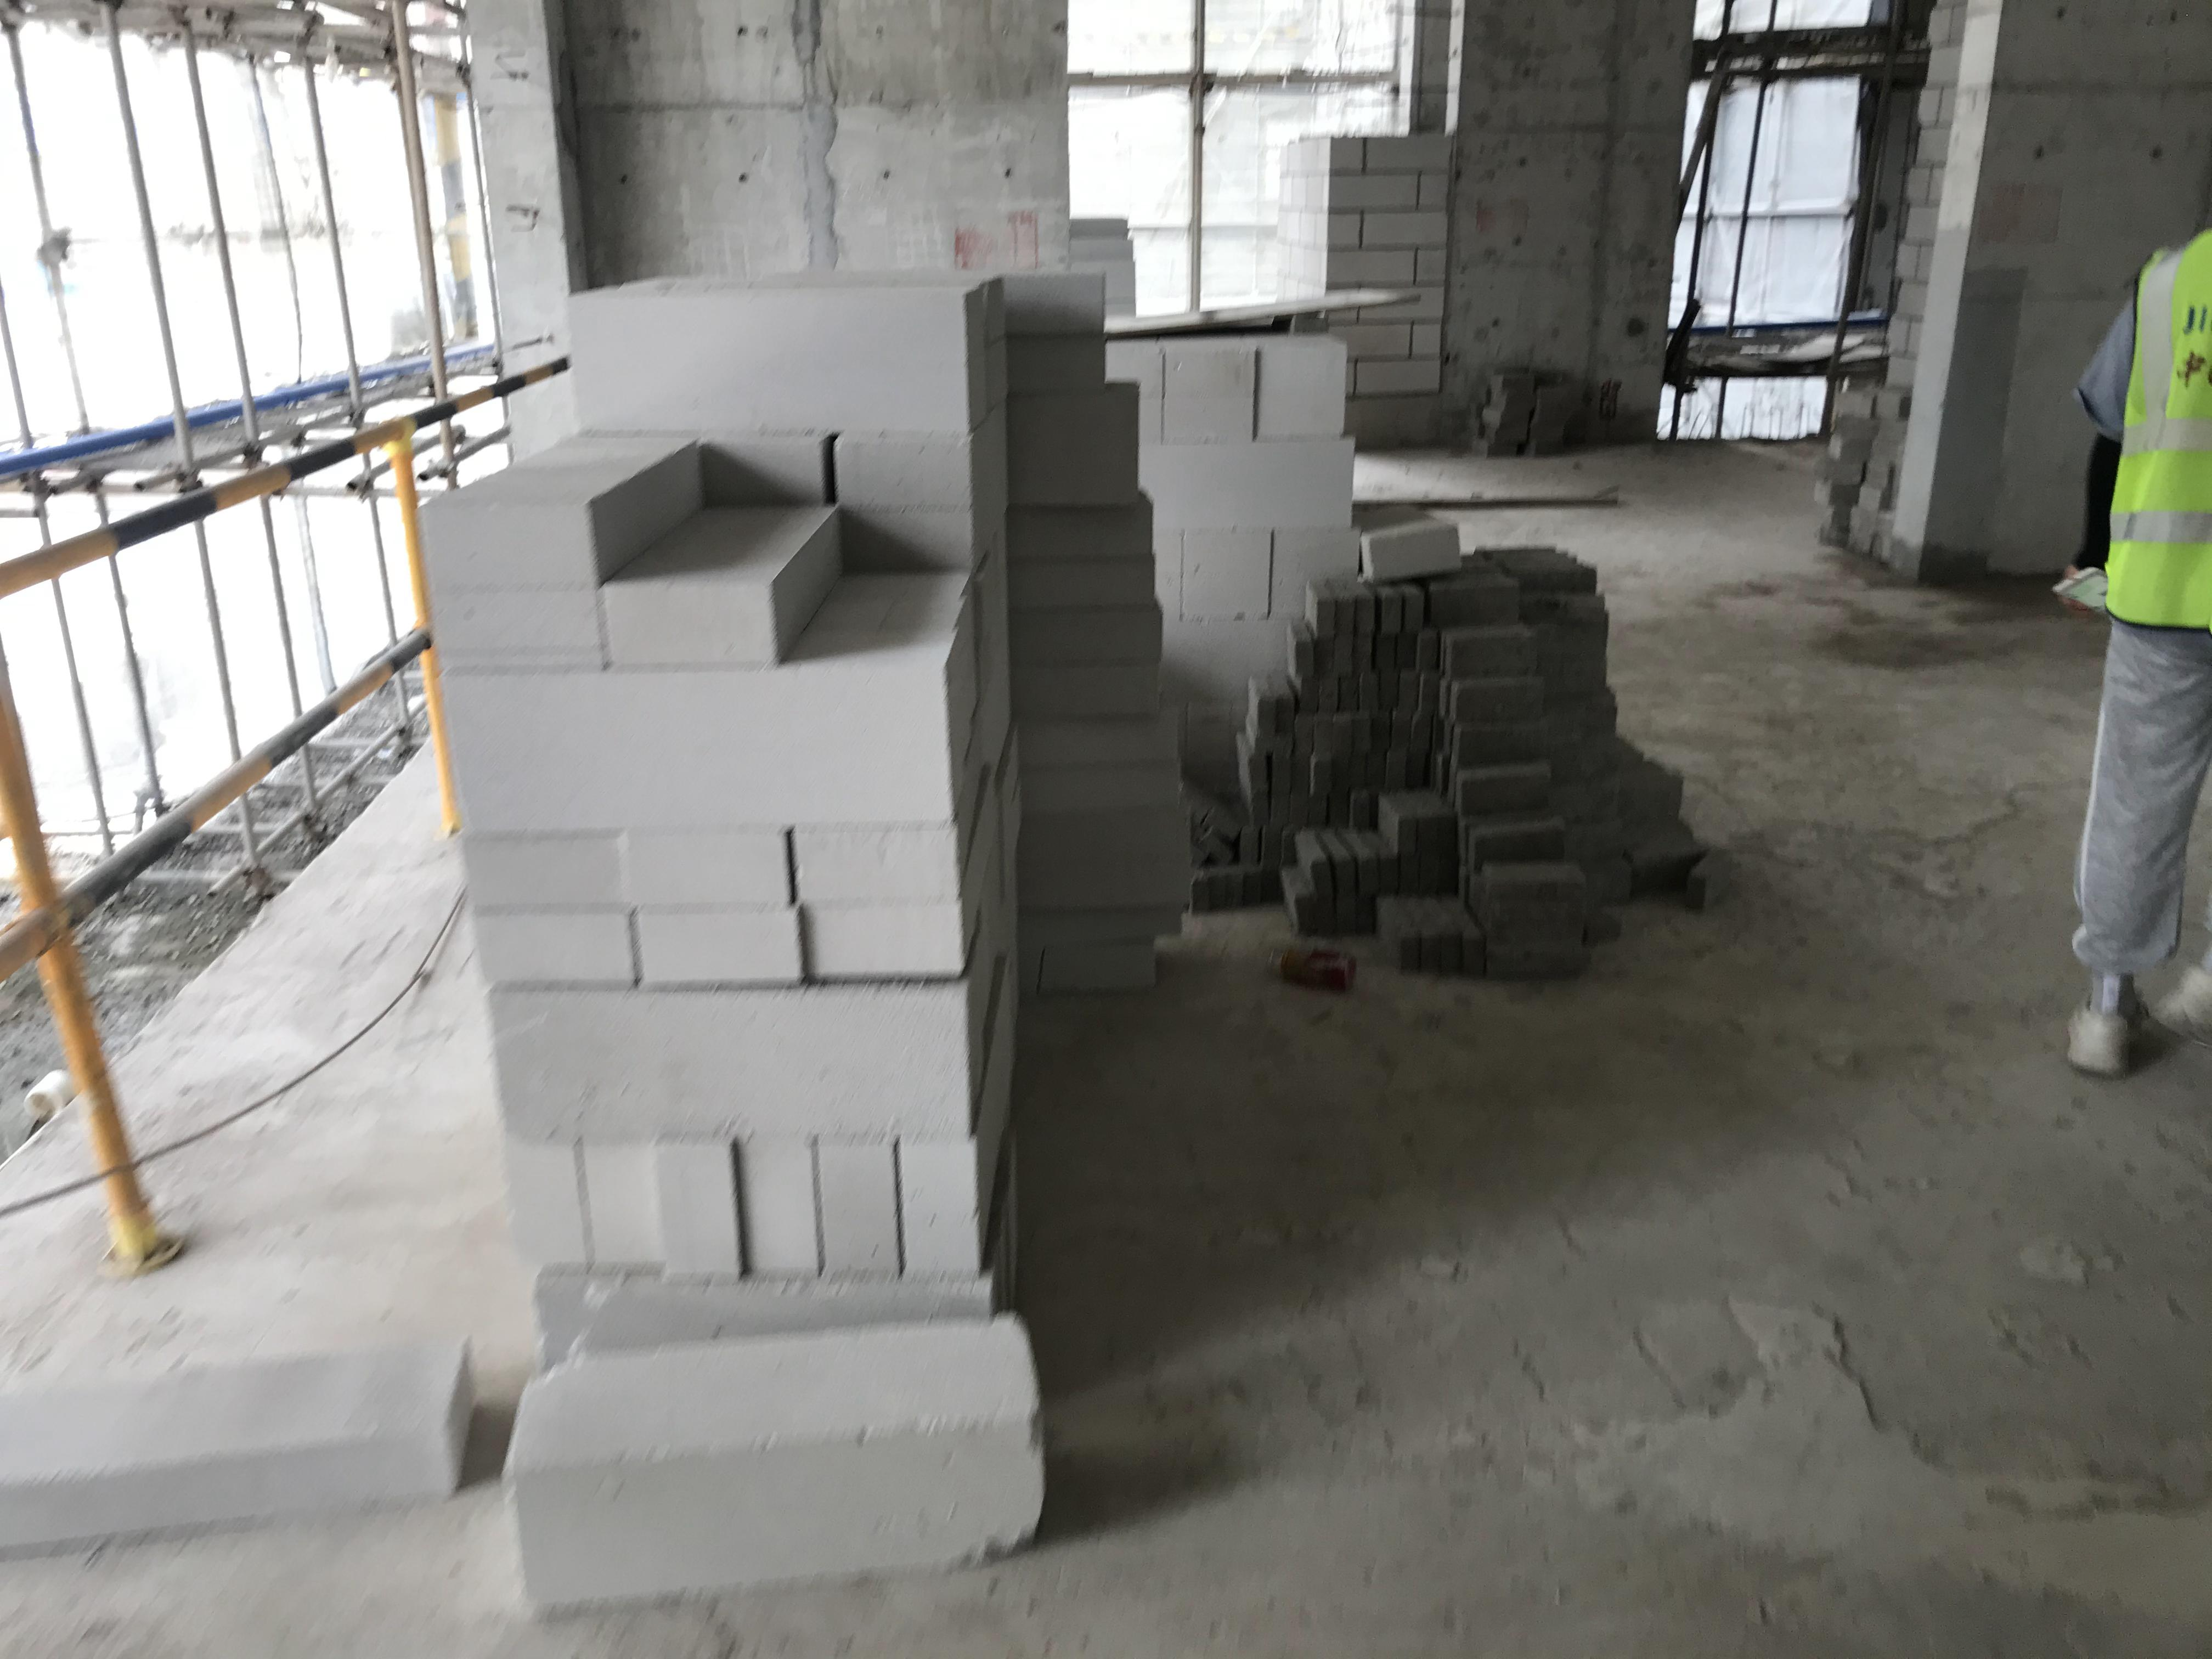brick: (419, 275, 1180, 1602), (1238, 544, 1734, 979), (1128, 321, 1341, 912), (1, 1335, 479, 1558), (1279, 128, 1449, 383)
person: (2064, 218, 2212, 1075)
vest: (2078, 231, 2212, 626)
